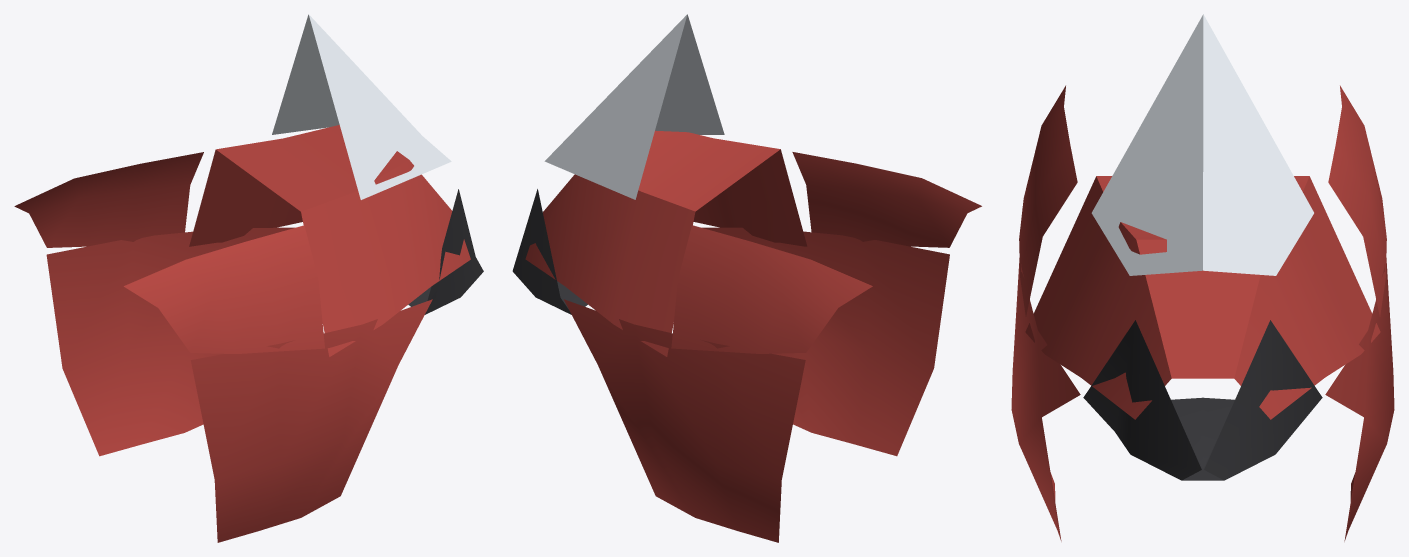
Rendered from adventure_lod2.glb.
3 renders of one model, left to right at view 1: azimuth 30°, elevation 25°; view 2: azimuth 150°, elevation 25°; view 3: azimuth 270°, elevation 25°, orthographic. The views are drawn at different scales.
Parts seen in each view (by area): view 1: adventure_lod2; view 2: adventure_lod2; view 3: adventure_lod2.
Part boxes in pixels (x1,y1,x2,y2): adventure_lod2: [14, 14, 483, 542]; adventure_lod2: [512, 14, 981, 542]; adventure_lod2: [1011, 14, 1394, 541].
Size of the model in its own units: 0.815 by 0.8598 by 0.5315.
